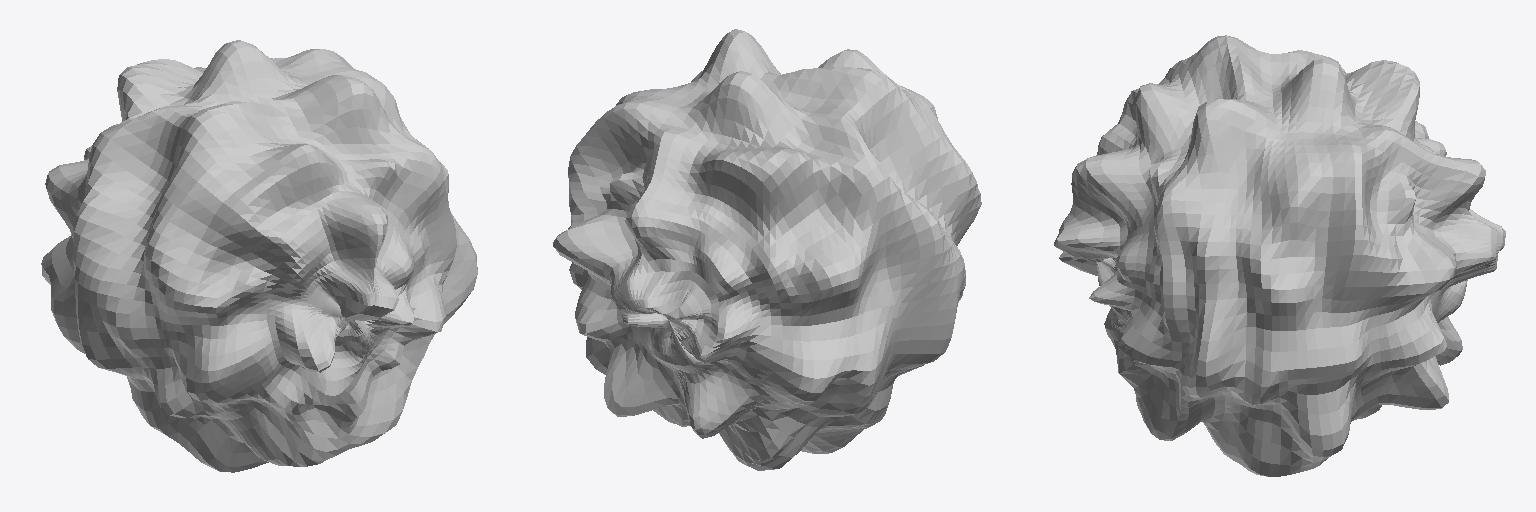
The model's file is asteroid10k.obj.
3 renders of one model, left to right at view 1: azimuth 30°, elevation 25°; view 2: azimuth 150°, elevation 25°; view 3: azimuth 270°, elevation 25°, orthographic.
Bounding box in the file's own units: 2.54 × 2.61 × 2.71.